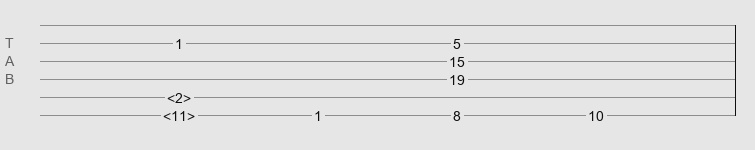1: (175, 36, 183, 46), (314, 108, 322, 118)
10: (588, 108, 604, 118)
15: (449, 54, 465, 64)
19: (449, 72, 465, 82)
5: (453, 36, 461, 46)
8: (453, 108, 461, 118)
harmonic: (163, 108, 195, 118), (167, 90, 191, 100)
